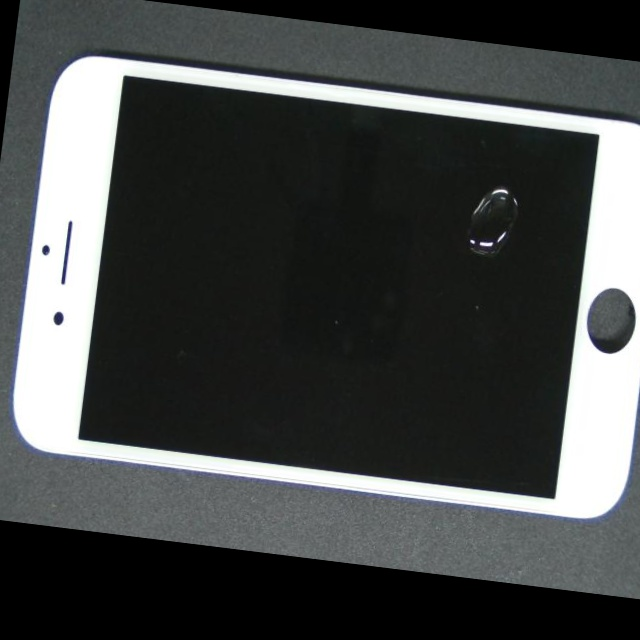oil: (269, 94, 640, 288)
